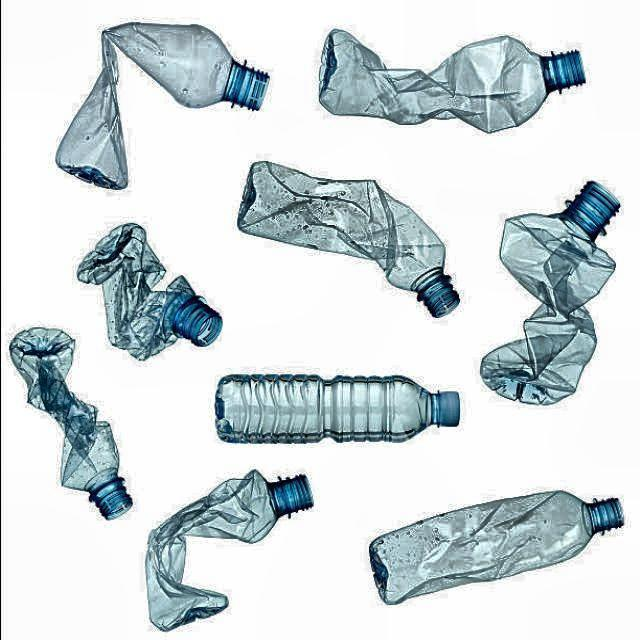plastic: (56, 22, 270, 191), (236, 161, 460, 319), (481, 181, 621, 407), (368, 490, 625, 606), (317, 29, 586, 134), (144, 470, 314, 627), (8, 327, 133, 521), (76, 223, 222, 362), (213, 373, 461, 445)
